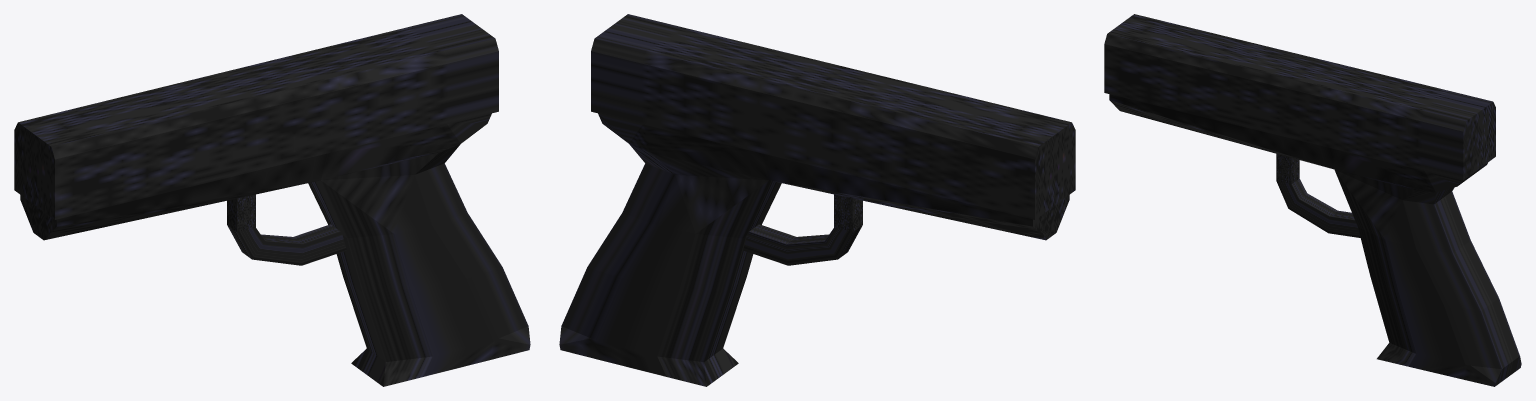
The model's file is glock_19.fbx.
3 views of the same model, side by side, from view 1: azimuth 30°, elevation 25°; view 2: azimuth 150°, elevation 25°; view 3: azimuth 330°, elevation 25° (orthographic). The views are drawn at different scales.
Visible parts, largest first — view 1: Cube; view 2: Cube; view 3: Cube.
Boxes of the visible parts, bbox=[...] form: Cube: bbox=[14, 14, 530, 386]; Cube: bbox=[559, 14, 1075, 386]; Cube: bbox=[1104, 14, 1521, 386].
Bounding box in the file's own units: 34.38 × 21.89 × 5.
